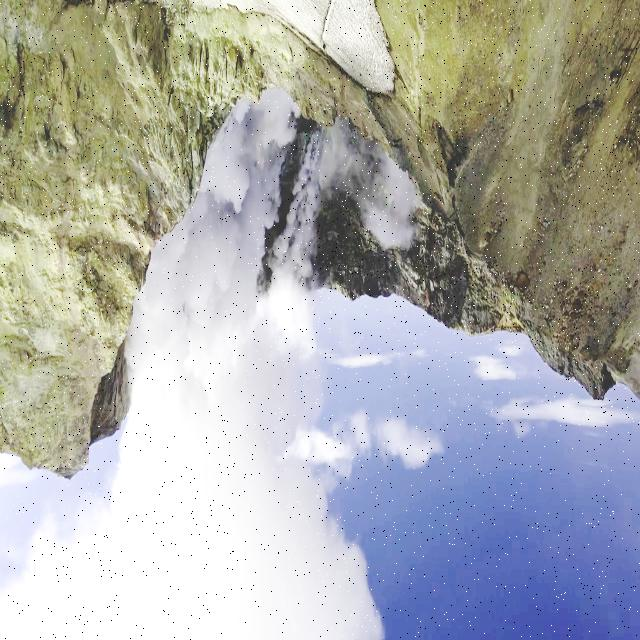asap: (3, 75, 397, 640), (101, 79, 305, 640), (199, 277, 330, 499), (278, 105, 350, 304), (366, 137, 450, 271)
